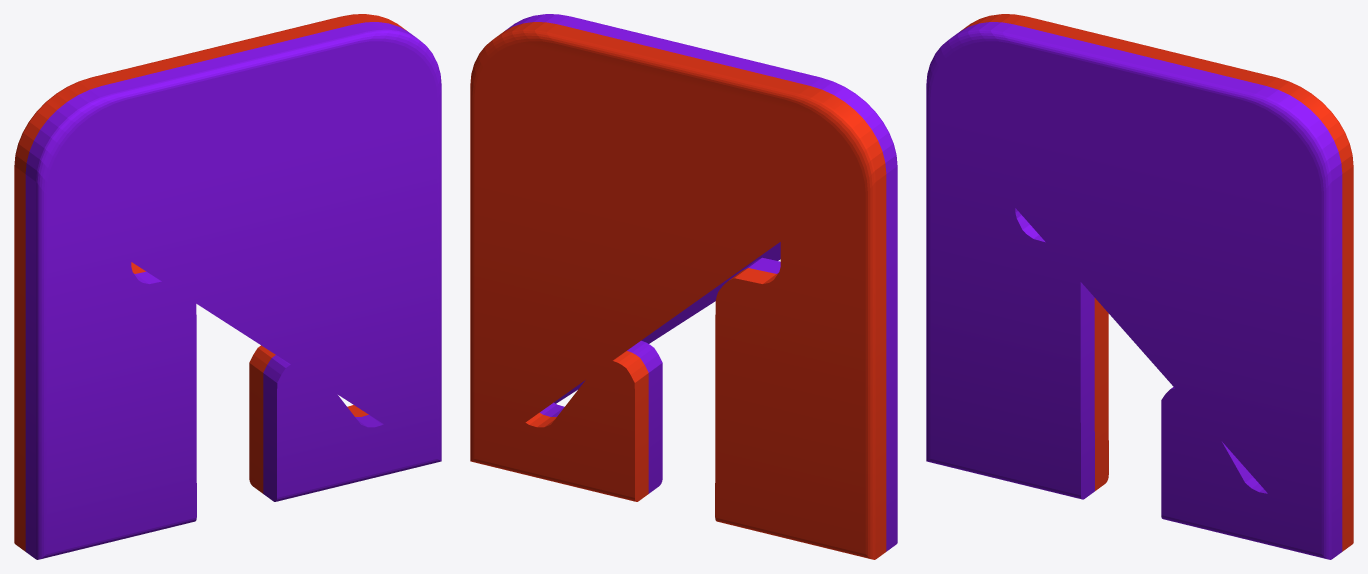
The model's file is wall_5.fbx.
3 views of the same model, side by side, from view 1: azimuth 30°, elevation 25°; view 2: azimuth 150°, elevation 25°; view 3: azimuth 330°, elevation 25° (orthographic).
Visible parts, largest first — view 1: wall_05; view 2: wall_05; view 3: wall_05.
Boxes of the visible parts, x1,y1,x2,y2 form: wall_05: (14,14,441,559); wall_05: (470,14,897,559); wall_05: (926,14,1353,559).
Size of the model in its own units: 343 by 362 by 40.95.
Materials: 1 (1 with a texture image).
